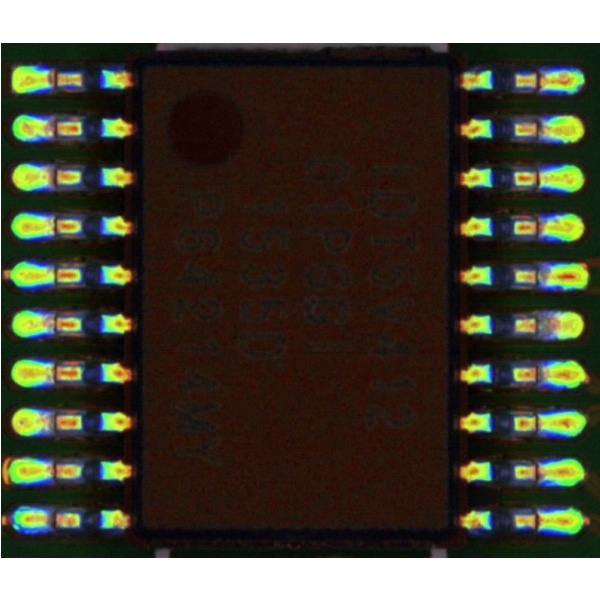Bad_podu: (528, 74, 555, 89), (525, 219, 549, 234), (526, 369, 555, 381), (35, 515, 66, 526), (527, 124, 557, 135), (40, 171, 63, 185), (527, 416, 550, 429), (525, 173, 547, 185), (42, 123, 64, 135), (530, 513, 546, 529), (43, 465, 60, 479), (528, 467, 545, 480), (44, 73, 62, 85), (44, 319, 61, 331)
